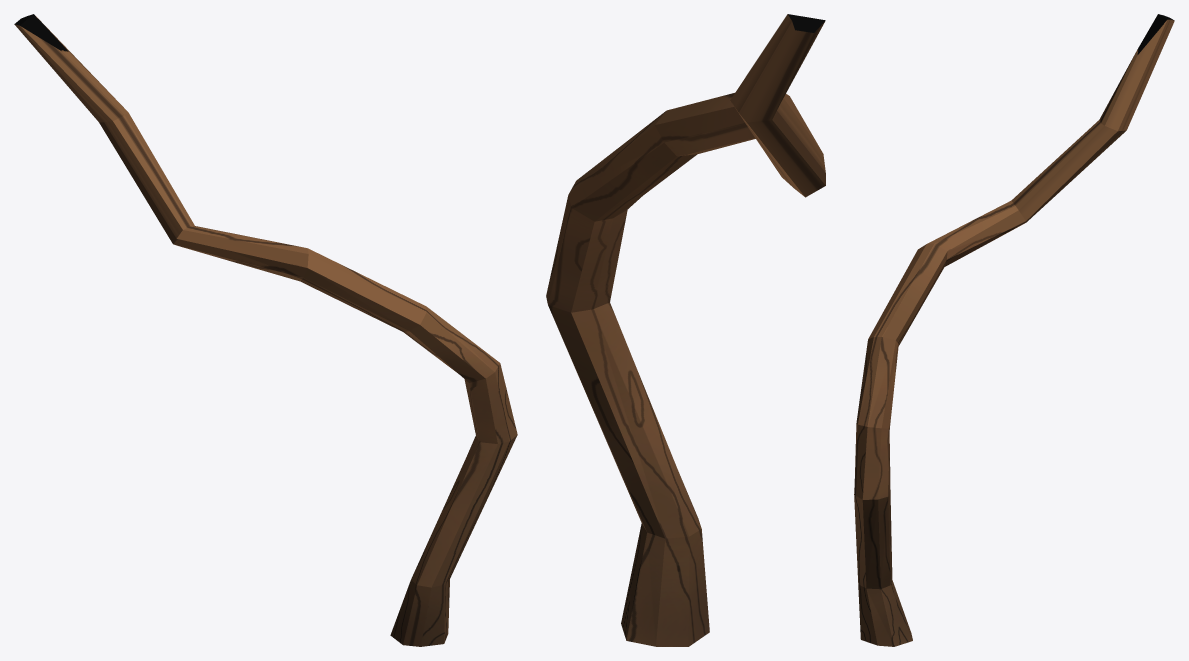
The model's file is Branch-Curve-2.fbx.
3 renders of one model, left to right at view 1: azimuth 30°, elevation 25°; view 2: azimuth 150°, elevation 25°; view 3: azimuth 270°, elevation 25°, orthographic. The views are drawn at different scales.
Parts seen in each view (by area): view 1: Branch-Curve-1.001; view 2: Branch-Curve-1.001; view 3: Branch-Curve-1.001.
Boxes of the visible parts, left/top/right/bottom form: Branch-Curve-1.001: left=14, top=14, right=517, bottom=646; Branch-Curve-1.001: left=546, top=14, right=825, bottom=646; Branch-Curve-1.001: left=854, top=14, right=1174, bottom=646.
Size of the model in its own units: 36.2 by 58.36 by 33.04.
